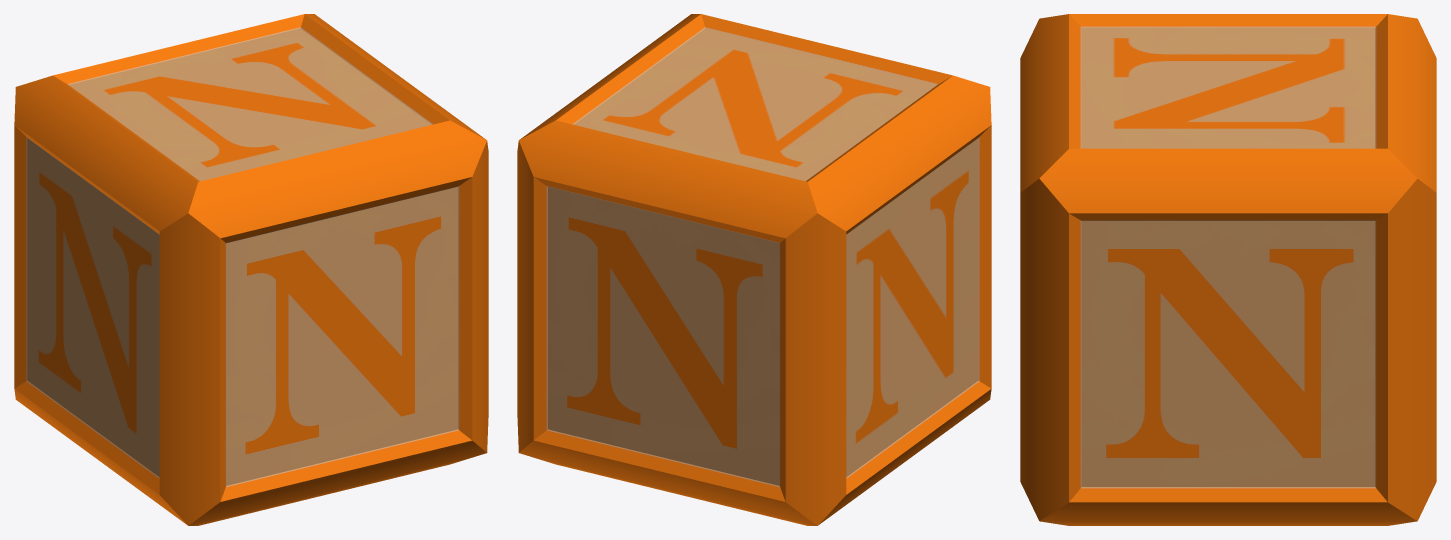
3 renders of one model, left to right at view 1: azimuth 30°, elevation 25°; view 2: azimuth 150°, elevation 25°; view 3: azimuth 270°, elevation 25°, orthographic. The views are drawn at different scales.
Parts seen in each view (by area): view 1: pCube1; view 2: pCube1; view 3: pCube1.
Boxes of the visible parts, x1,y1,x2,y2 form: pCube1: (14, 14, 488, 525); pCube1: (517, 14, 991, 525); pCube1: (1020, 14, 1436, 525).
Bounding box in the file's own units: 0.4114 × 0.4114 × 0.4114.
1 material, 1 textured.
